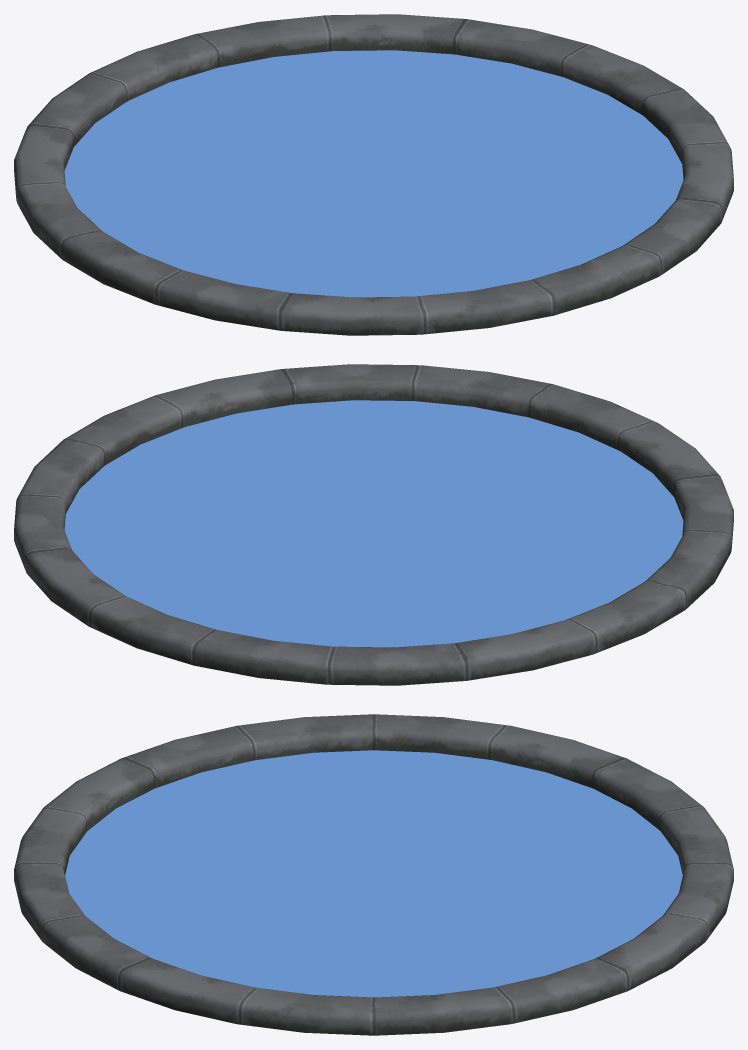
Rendered from pond.fbx.
3 views of the same model, one above another, from view 1: azimuth 30°, elevation 25°; view 2: azimuth 150°, elevation 25°; view 3: azimuth 270°, elevation 25° (orthographic).
Visible parts, largest first — view 1: pond; view 2: pond; view 3: pond.
Part boxes in pixels (bbox=[...]): pond: bbox=[14, 14, 733, 335]; pond: bbox=[14, 364, 733, 685]; pond: bbox=[14, 714, 733, 1035].
Size of the model in its own units: 417 by 13.1 by 417.
